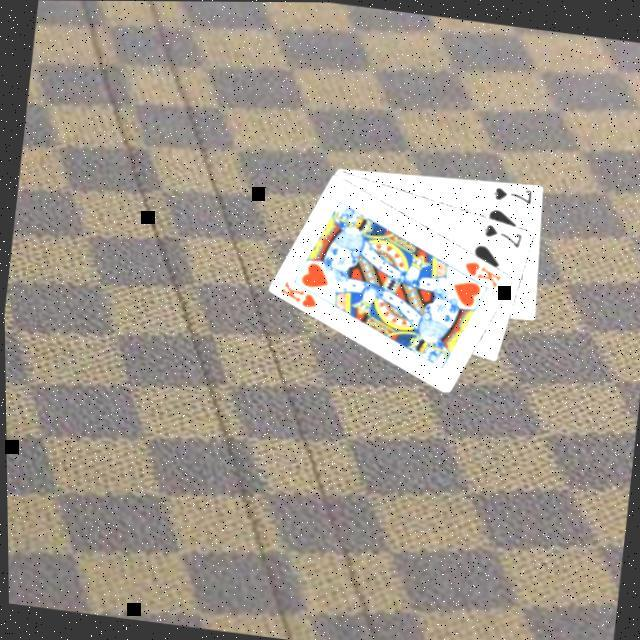7S: (476, 216, 523, 247), (487, 178, 533, 203)
KH: (456, 253, 502, 288), (273, 274, 319, 309)
